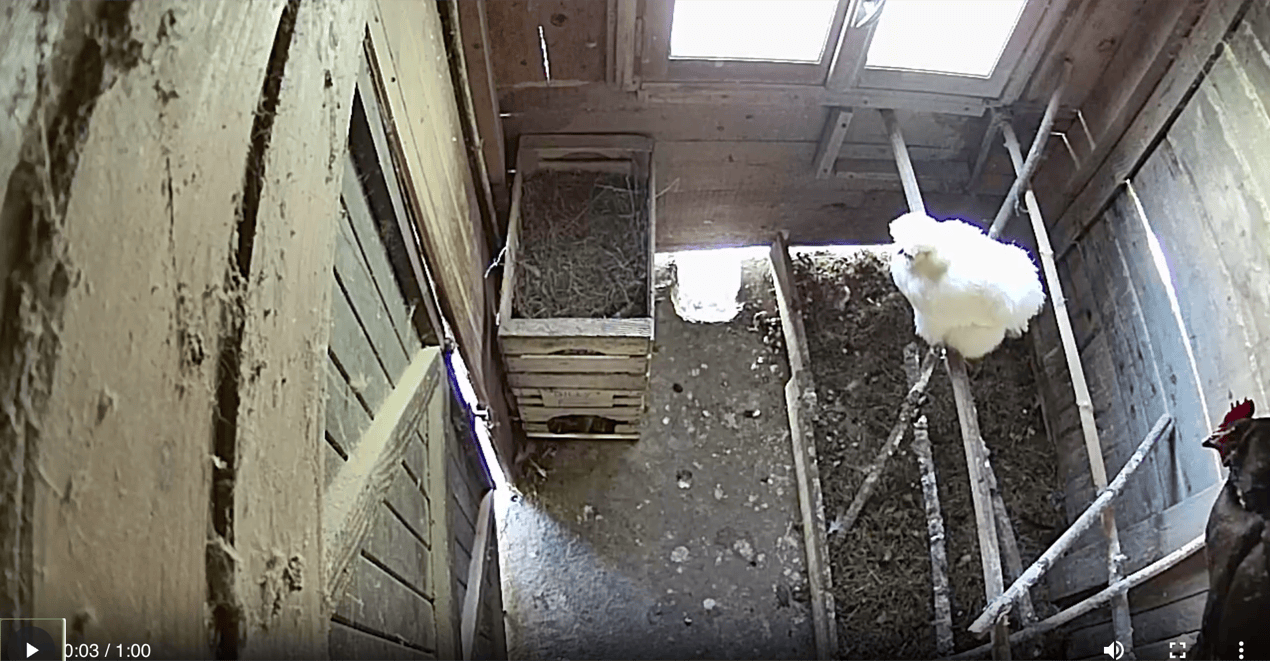chicken: (872, 195, 1054, 371), (1188, 387, 1270, 661)
